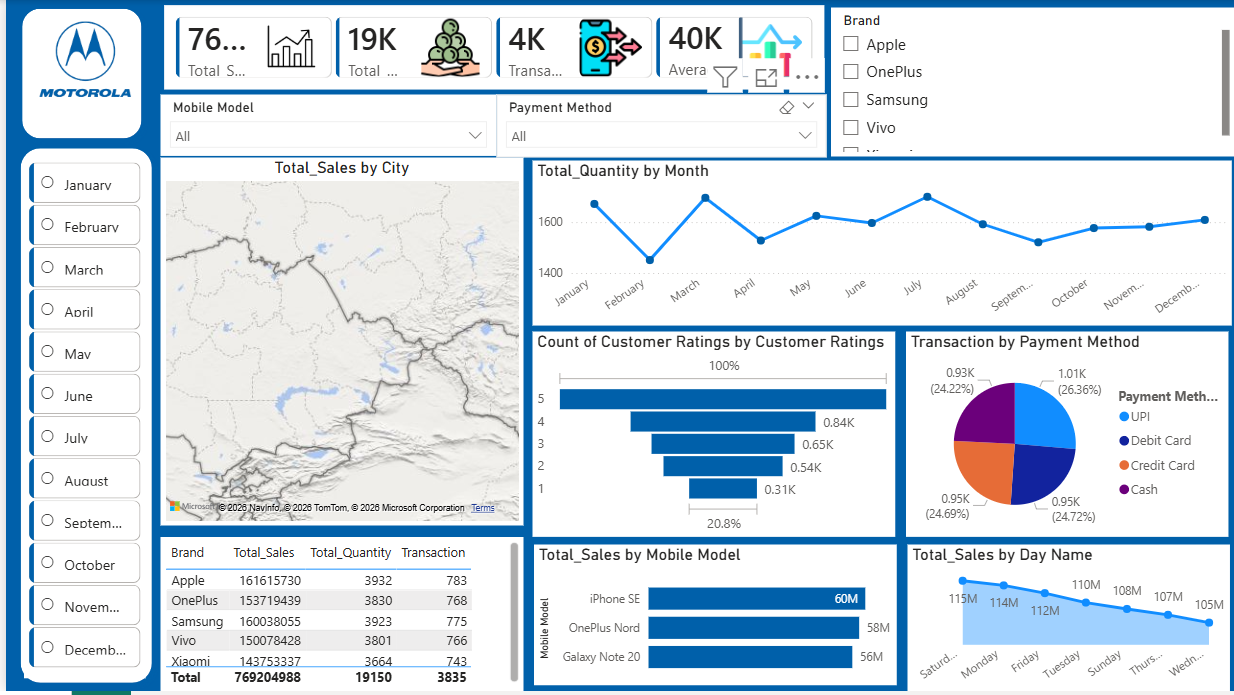

The page's visual inventory and layout, read from the dashboard file:
{"tool":"powerbi","page":{"name":"Page 1","canvas":[1280,720],"ordinal":0},"visuals":[{"type":"shape","box":[7.8,0,142.2,153.2],"z":0},{"type":"image","box":[15.6,14.1,134.4,95.3],"z":1000},{"type":"shape","box":[6.3,145.4,154.7,575.2],"z":2000},{"type":"advancedSlicerVisual","fields":{"Values":["Sheet1.Date.Variation.Date Hierarchy.Month"]},"box":[18.8,164.1,126.6,542.4],"z":3000},{"type":"cardVisual","fields":{"Data":["Sales Data.Total_Sales","Sales Data.Total_Quantity","Sales Data.Transaction","Sales Data.Average"]},"box":[161,0,698.7,98.5],"z":4000},{"type":"map","fields":{"Category":["Sales Data.City"],"Size":["Sales Data.Total_Sales"]},"box":[161,164.1,378.2,381.4],"z":5000},{"type":"lineChart","fields":{"Y":["Sales Data.Total_Quantity"],"Category":["Sales Data.Date.Variation.Date Hierarchy.Month","Sales Data.Date.Variation.Date Hierarchy.Day"]},"box":[548.6,167.2,728.4,171.9],"z":6000},{"type":"barChart","fields":{"Category":["Sales Data.Mobile Model"],"Y":["Sales Data.Total_Sales"]},"box":[550.2,567.4,378.2,146.9],"z":7000},{"type":"pieChart","title":"Transaction by Payment Method","fields":{"Category":["Sales Data.Payment Method"],"Y":["CountNonNull(Sales Data.Transaction ID)"]},"box":[937.8,345.4,336,214.1],"z":8000},{"type":"funnel","fields":{"Y":["CountNonNull(Sales Data.Customer Ratings)"],"Category":["Sales Data.Customer Ratings"]},"box":[548.6,345.4,378.2,214.1],"z":9000},{"type":"areaChart","fields":{"Category":["Sales Data.Day Name"],"Y":["Sales Data.Total_Sales"]},"box":[939.4,566.8,336,153.2],"z":10000},{"type":"tableEx","fields":{"Values":["Sales Data.Brand","Sales Data.Total_Sales","Sales Data.Total_Quantity","Sales Data.Transaction"]},"box":[161,559.5,378.2,161],"z":11000},{"type":"slicer","fields":{"Values":["Sales Data.Mobile Model"]},"box":[161,98.5,350.1,64.1],"z":12000},{"type":"slicer","fields":{"Values":["Sales Data.Payment Method"]},"box":[511.1,98.5,343.9,65.6],"z":13000},{"type":"slicer","fields":{"Values":["Sales Data.Day Name"]},"box":[894,215.7,284.5,73.5],"z":16000},{"type":"slicer","fields":{"Values":["Sales Data.Brand"]},"box":[859.6,7.8,420.4,154.7],"z":17000}]}

Visuals, with their boxes in screenshot pixels (x1, y1, x2, y2), scaled from the page's 1280x720 canvas onto the 1234x695 screenshot:
shape: select_region(8, 0, 145, 148)
image: select_region(15, 14, 145, 106)
shape: select_region(6, 140, 155, 694)
advancedSlicerVisual - Sheet1.Date.Variation.Date Hierarchy.Month: select_region(18, 158, 140, 682)
cardVisual - Sales Data.Total_Sales x Sales Data.Total_Quantity: select_region(155, 0, 829, 95)
map - Sales Data.City x Sales Data.Total_Sales: select_region(155, 158, 520, 527)
lineChart - Sales Data.Total_Quantity x Sales Data.Date.Variation.Date Hierarchy.Month: select_region(529, 161, 1231, 327)
barChart - Sales Data.Mobile Model x Sales Data.Total_Sales: select_region(530, 548, 895, 689)
"Transaction by Payment Method" pieChart: select_region(904, 333, 1228, 540)
funnel - CountNonNull(Sales Data.Customer Ratings) x Sales Data.Customer Ratings: select_region(529, 333, 893, 540)
areaChart - Sales Data.Day Name x Sales Data.Total_Sales: select_region(906, 547, 1230, 694)
tableEx - Sales Data.Brand x Sales Data.Total_Sales: select_region(155, 540, 520, 694)
slicer - Sales Data.Mobile Model: select_region(155, 95, 493, 157)
slicer - Sales Data.Payment Method: select_region(493, 95, 824, 158)
slicer - Sales Data.Day Name: select_region(862, 208, 1136, 279)
slicer - Sales Data.Brand: select_region(829, 8, 1233, 157)
